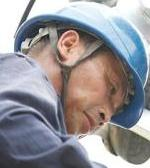hard-hat: (18, 0, 150, 90)
